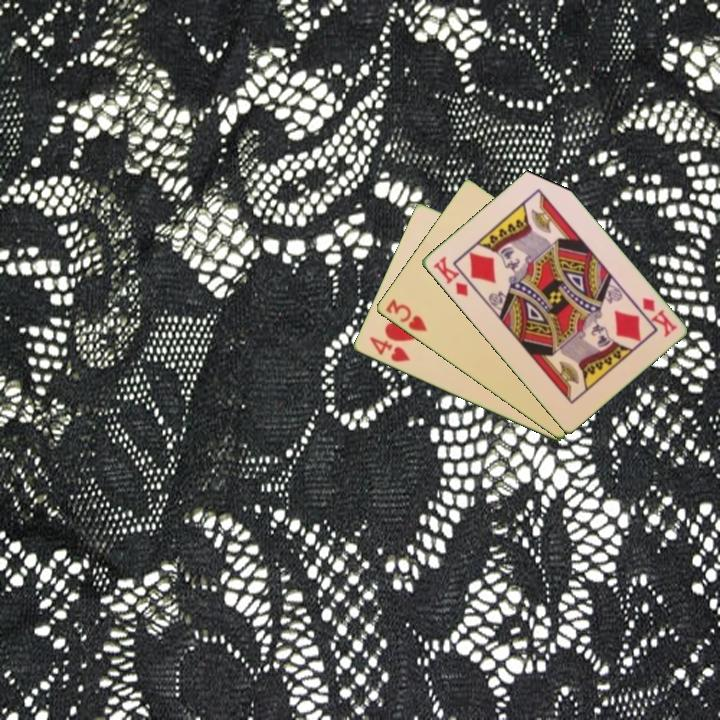3h: (382, 295, 430, 335)
4h: (366, 333, 413, 365)
Kd: (429, 253, 471, 299), (638, 293, 679, 340)
